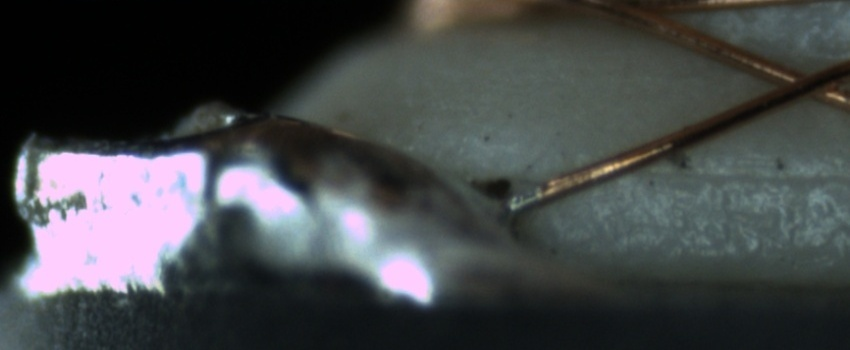CL: (753, 54, 844, 110)
DL: (628, 143, 850, 202)
TS: (500, 184, 541, 215)
